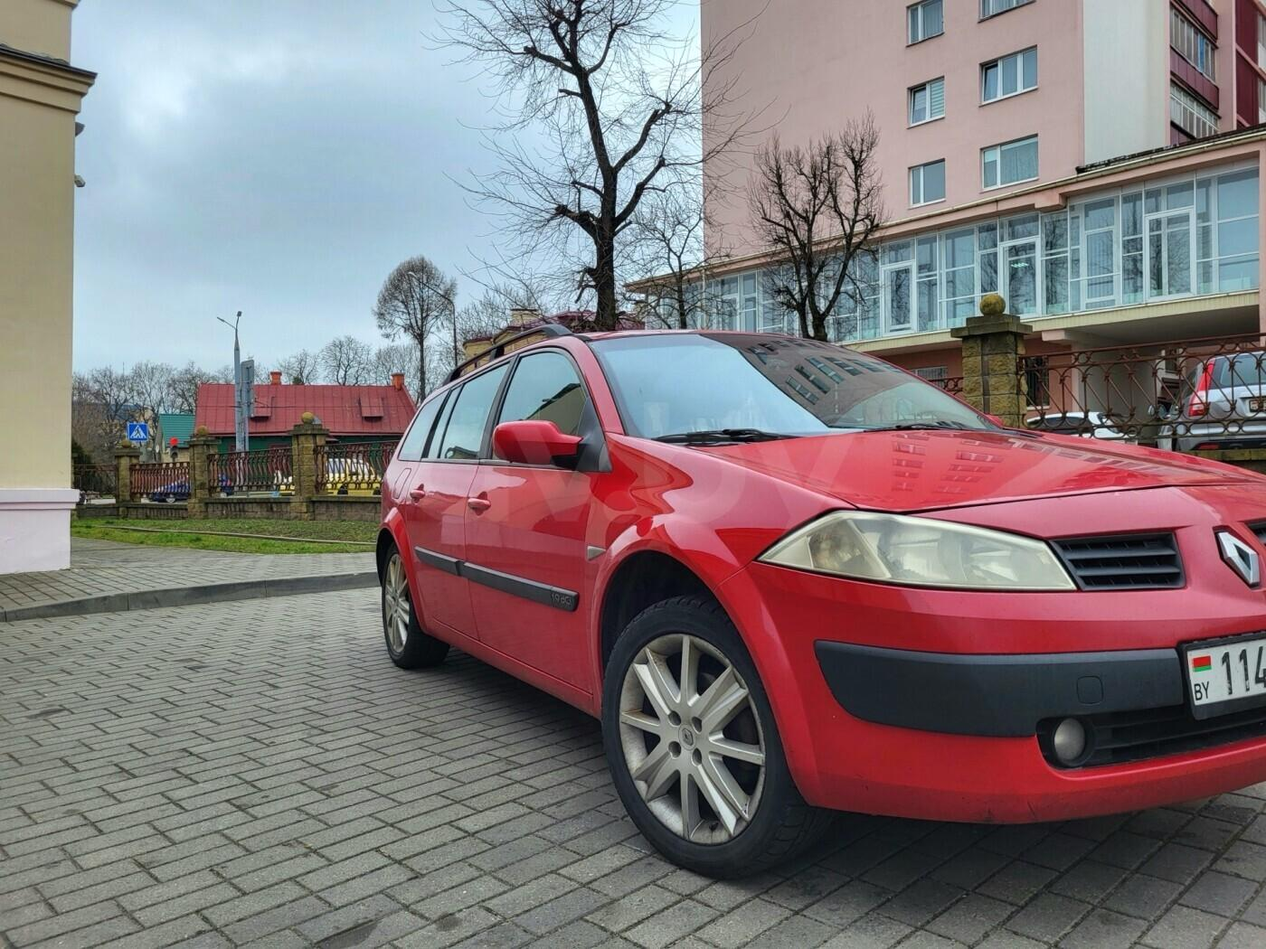Megane_2002-2006: (375, 340, 1266, 893)
